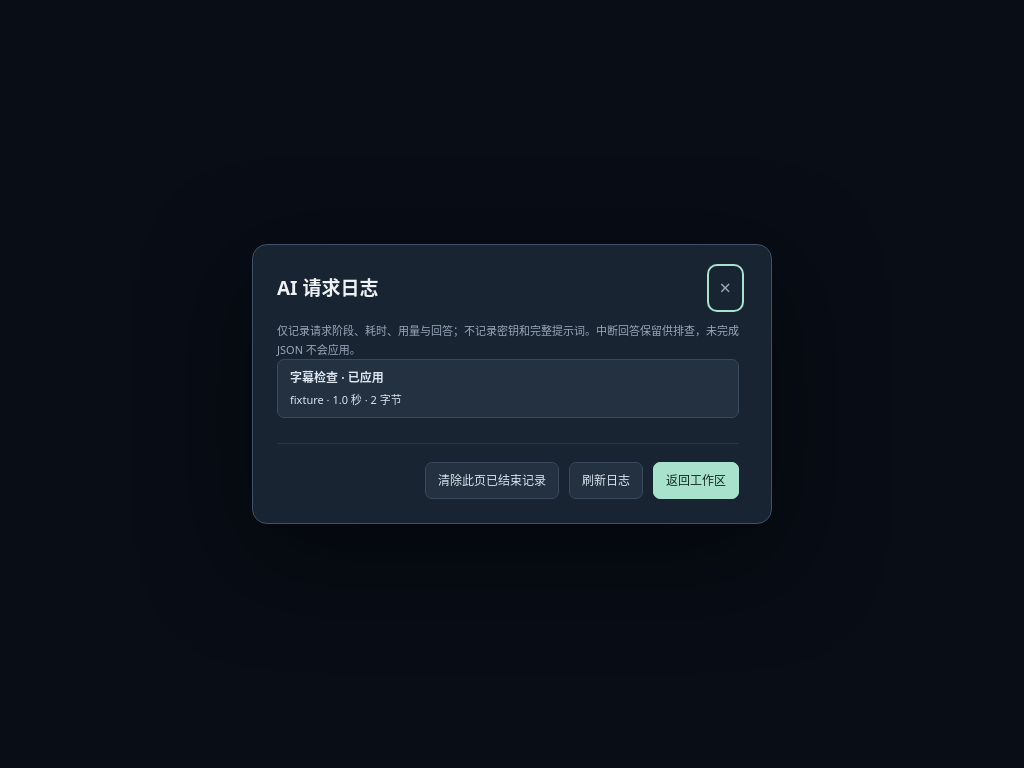
Scenario: diagnostics page navigation › does not offer replay for a published record
The image size is (1024, 768).
Click the button "字幕检查 · 已应用 fixture · 1.0 秒 · 2 字节".
click(314, 378)  # box [277,359,739,418]
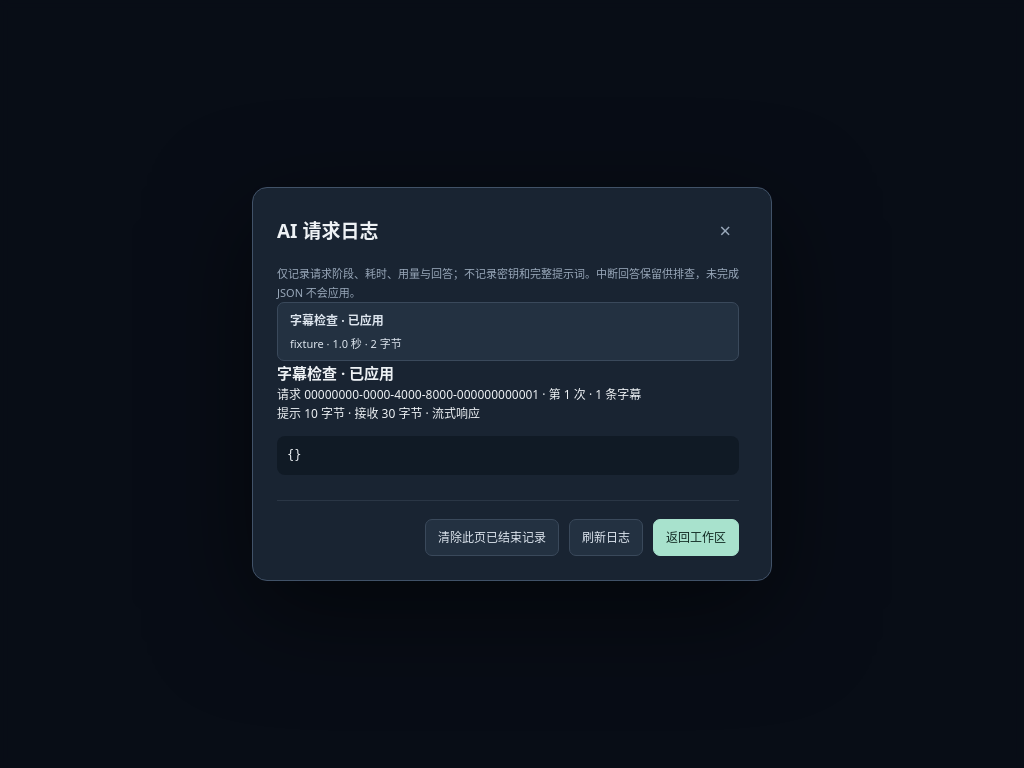
Expected: the heading "字幕检查 · 已应用" is shown, [277,363,394,383]
